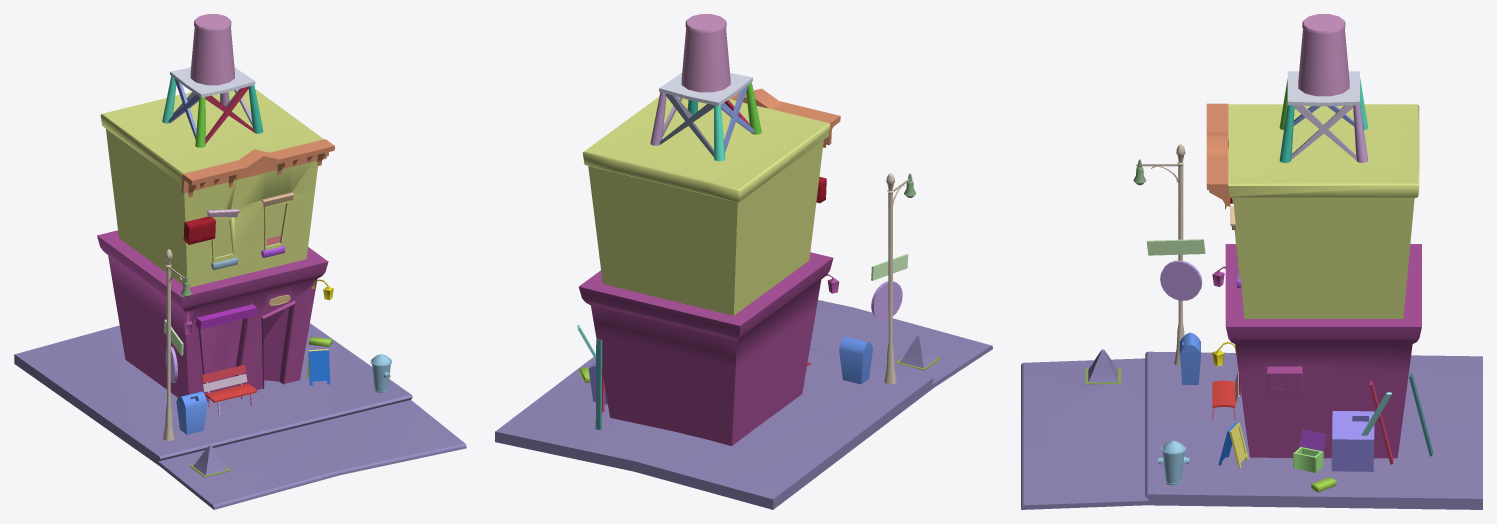
3 views of the same model, side by side, from view 1: azimuth 30°, elevation 25°; view 2: azimuth 150°, elevation 25°; view 3: azimuth 270°, elevation 25° (orthographic). The views are drawn at different scales.
Visible parts, largest first — view 1: split_parent_11, gameExtWithTexture:gameExtWithUv:gameExt:gameExt:gameExt:pol, split_parent_0, gameExtWithTexture:gameExtWithUv:gameExt:gameExt:gameExt:pCu, gameExtWithTexture:gameExtWithUv:gameExt:gameExt:pCube2_game, split_parent_66, gameExtWithTexture:gameExtWithUv:gameExt:gameExt:pCube30_gam, split_parent_37, split_parent_33, gameExtWithTexture:gameExtWithUv:gameExt:gameExt:pCube3_game, split_parent_41, gameExtWithTexture:gameExtWithUv:gameExt:gameExt:pCube17_gam (+3 smaller); view 2: gameExtWithTexture:gameExtWithUv:gameExt:gameExt:gameExt:pol, split_parent_11, split_parent_0, gameExtWithTexture:gameExtWithUv:gameExt:gameExt:pCube2_game, split_parent_66, gameExtWithTexture:gameExtWithUv:gameExt:gameExt:pCube30_gam, split_parent_37, gameExtWithTexture:gameExtWithUv:gameExt:gameExt:gameExt:pCu, gameExtWithTexture:gameExtWithUv:gameExt:gameExt:pCylinder2_, split_parent_38, gameExtWithTexture:gameExtWithUv:gameExt:gameExt:group3_pCub, gameExtWithTexture:gameExtWithUv:gameExt:gameExt:pCube24_gam; view 3: split_parent_11, gameExtWithTexture:gameExtWithUv:gameExt:gameExt:gameExt:pol, split_parent_0, gameExtWithTexture:gameExtWithUv:gameExt:gameExt:pCube2_game, gameExtWithTexture:gameExtWithUv:gameExt:gameExt:pCube18_gam, gameExtWithTexture:gameExtWithUv:gameExt:gameExt:gameExt:pCu, gameExtWithTexture:gameExtWithUv:gameExt:gameExt:group3_pCub (×3), split_parent_37, gameExtWithTexture:gameExtWithUv:gameExt:gameExt:pCylinder2_, split_parent_66, gameExtWithTexture:gameExtWithUv:gameExt:gameExt:pCube30_gam, gameExtWithTexture:gameExtWithUv:gameExt:gameExt:pCube26_gam (+3 smaller).
Boxes of the visible parts, x1,y1,x2,y2 form: split_parent_11: (14,323,466,509); gameExtWithTexture:gameExtWithUv:gameExt:gameExt:gameExt:pol: (100,89,323,287); split_parent_0: (97,230,328,401); gameExtWithTexture:gameExtWithUv:gameExt:gameExt:gameExt:pCu: (181,139,334,197); gameExtWithTexture:gameExtWithUv:gameExt:gameExt:pCube2_game: (190,14,234,85); split_parent_66: (163,249,188,440); gameExtWithTexture:gameExtWithUv:gameExt:gameExt:pCube30_gam: (176,391,207,434); split_parent_37: (170,67,255,97); split_parent_33: (196,304,257,329); gameExtWithTexture:gameExtWithUv:gameExt:gameExt:pCube3_game: (183,216,215,244); split_parent_41: (205,86,254,143); gameExtWithTexture:gameExtWithUv:gameExt:gameExt:pCube17_gam: (308,350,330,385); gameExtWithTexture:gameExtWithUv:gameExt:gameExt:gameExt:pol: (582,97,830,315); split_parent_11: (495,300,992,509); split_parent_0: (579,252,839,446); gameExtWithTexture:gameExtWithUv:gameExt:gameExt:pCube2_game: (681,14,730,92); split_parent_66: (884,173,912,384); gameExtWithTexture:gameExtWithUv:gameExt:gameExt:pCube30_gam: (839,336,872,384); split_parent_37: (659,72,752,105); gameExtWithTexture:gameExtWithUv:gameExt:gameExt:gameExt:pCu: (730,88,840,147); gameExtWithTexture:gameExtWithUv:gameExt:gameExt:pCylinder2_: (871,281,902,320); split_parent_38: (659,93,713,156); gameExtWithTexture:gameExtWithUv:gameExt:gameExt:group3_pCub: (721,85,754,153); gameExtWithTexture:gameExtWithUv:gameExt:gameExt:pCube24_gam: (595,339,602,429); split_parent_11: (1021,349,1482,509); gameExtWithTexture:gameExtWithUv:gameExt:gameExt:gameExt:pol: (1228,104,1419,318); split_parent_0: (1212,244,1421,458); gameExtWithTexture:gameExtWithUv:gameExt:gameExt:pCube2_game: (1298,14,1349,96); gameExtWithTexture:gameExtWithUv:gameExt:gameExt:pCube18_gam: (1331,411,1374,471); gameExtWithTexture:gameExtWithUv:gameExt:gameExt:gameExt:pCu: (1206,103,1230,209); gameExtWithTexture:gameExtWithUv:gameExt:gameExt:group3_pCub (×3): (1279,105,1368,162); split_parent_37: (1287,71,1359,106); gameExtWithTexture:gameExtWithUv:gameExt:gameExt:pCylinder2_: (1160,260,1202,300); split_parent_66: (1136,144,1185,365); gameExtWithTexture:gameExtWithUv:gameExt:gameExt:pCube30_gam: (1179,332,1200,384); gameExtWithTexture:gameExtWithUv:gameExt:gameExt:pCube26_gam: (1158,440,1189,485).
Size of the model in its own units: 0.7307 by 0.9988 by 1.
